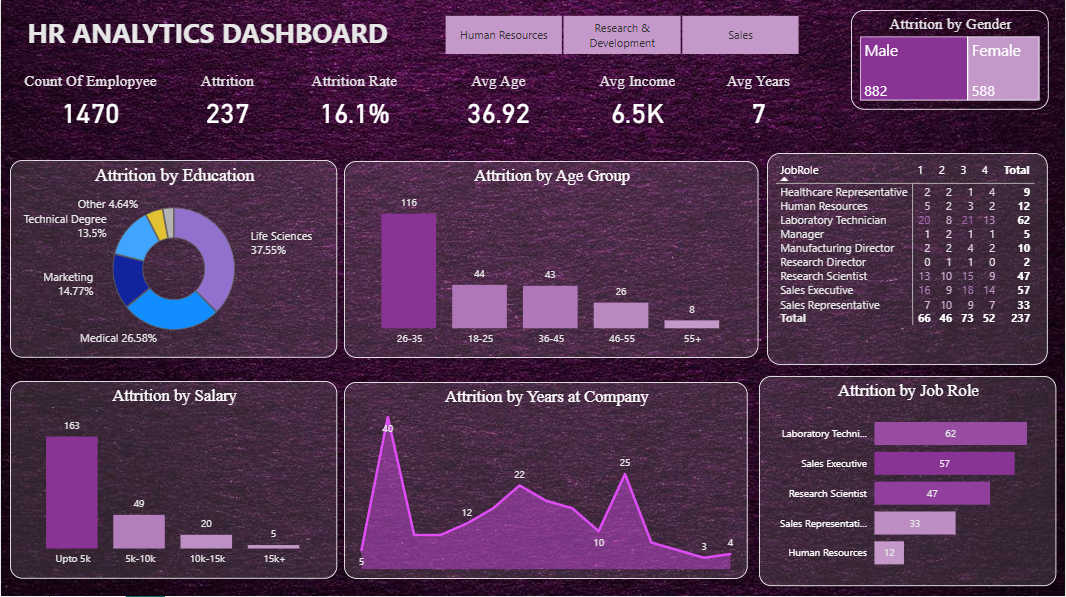

Layout of this report page (visuals, bound fields, positions):
{"tool":"powerbi","page":{"name":"Page 1","canvas":[1280,720],"ordinal":0},"visuals":[{"type":"card","title":"Count Of Emplopyee","fields":{"Values":["CountNonNull(HR_Analytics.EmpID)"]},"box":[10.6,73.9,193.7,103.9],"z":0},{"type":"card","title":"Attrition","fields":{"Values":["CountNonNull(HR_Analytics.AttritionCount)"]},"box":[176.1,73.9,193.7,103.9],"z":1000},{"type":"card","title":"Avg Age","fields":{"Values":["Avg(HR_Analytics.Age)"]},"box":[501.8,73.9,193.7,103.9],"z":2000},{"type":"card","title":"Attrition Rate","fields":{"Values":["HR_Analytics.AttritionRate"]},"box":[329.2,73.9,193.7,103.9],"z":3000},{"type":"card","title":"Avg Income","fields":{"Values":["Avg(HR_Analytics.MonthlyIncome)"]},"box":[669.1,73.9,193.7,103.9],"z":4000},{"type":"card","title":"Avg Years","fields":{"Values":["Avg(HR_Analytics.YearsAtCompany)"]},"box":[815.2,73.9,193.7,103.9],"z":5000},{"type":"donutChart","title":"Attrition by Education","fields":{"Series":["HR_Analytics.EducationField"],"Category":["HR_Analytics.EducationField"],"Y":["Sum(HR_Analytics.AttritionCount)"]},"box":[10.6,195.4,394.4,237.7],"z":6000},{"type":"clusteredColumnChart","title":"Attrition by Age Group","fields":{"Y":["Sum(HR_Analytics.AttritionCount)"],"Category":["HR_Analytics.AgeGroup"]},"box":[413.3,195.9,499.1,237.4],"z":7000},{"type":"pivotTable","fields":{"Rows":["HR_Analytics.JobRole"],"Columns":["HR_Analytics.JobSatisfaction"],"Values":["Sum(HR_Analytics.AttritionCount)"]},"box":[922.6,186.6,338,255.3],"z":8000},{"type":"clusteredColumnChart","title":"Attrition by Salary","fields":{"Y":["Sum(HR_Analytics.AttritionCount)"],"Category":["HR_Analytics.SalarySlab"]},"box":[10.6,461.3,394.4,237.7],"z":9000},{"type":"barChart","title":"Attrition by Job Role","fields":{"Category":["HR_Analytics.JobRole"],"Y":["Sum(HR_Analytics.AttritionCount)"]},"box":[912.4,454.8,357.5,253.1],"z":10000},{"type":"lineChart","title":"Attrition by Years at Company","fields":{"Y":["Sum(HR_Analytics.AttritionCount)"],"Category":["HR_Analytics.TotalWorkingYears"]},"box":[413.3,461.9,486.3,237.4],"z":11000},{"type":"treemap","title":" Attrition by Gender","fields":{"Group":["HR_Analytics.Gender"],"Values":["CountNonNull(HR_Analytics.Attrition)"]},"box":[1022.9,14.1,237.7,119.7],"z":12000},{"type":"slicer","fields":{"Values":["HR_Analytics.Department"]},"box":[508.8,14.1,475.4,59.9],"z":13000},{"type":"textbox","box":[26.4,14.1,489.5,89.8],"z":14000}]}

Visuals, with their boxes in screenshot pixels (x1, y1, x2, y2), scaled from the page's 1280x720 canvas onto the 1066x597 screenshot:
"Count Of Emplopyee" card: bbox(9, 61, 170, 147)
"Attrition" card: bbox(147, 61, 308, 147)
"Avg Age" card: bbox(418, 61, 579, 147)
"Attrition Rate" card: bbox(274, 61, 435, 147)
"Avg Income" card: bbox(557, 61, 719, 147)
"Avg Years" card: bbox(679, 61, 840, 147)
"Attrition by Education" donutChart: bbox(9, 162, 337, 359)
"Attrition by Age Group" clusteredColumnChart: bbox(344, 162, 760, 359)
pivotTable - HR_Analytics.JobRole x HR_Analytics.JobSatisfaction: bbox(768, 155, 1050, 366)
"Attrition by Salary" clusteredColumnChart: bbox(9, 382, 337, 580)
"Attrition by Job Role" barChart: bbox(760, 377, 1058, 587)
"Attrition by Years at Company" lineChart: bbox(344, 383, 749, 580)
" Attrition by Gender" treemap: bbox(852, 12, 1050, 111)
slicer - HR_Analytics.Department: bbox(424, 12, 820, 61)
textbox: bbox(22, 12, 430, 86)
